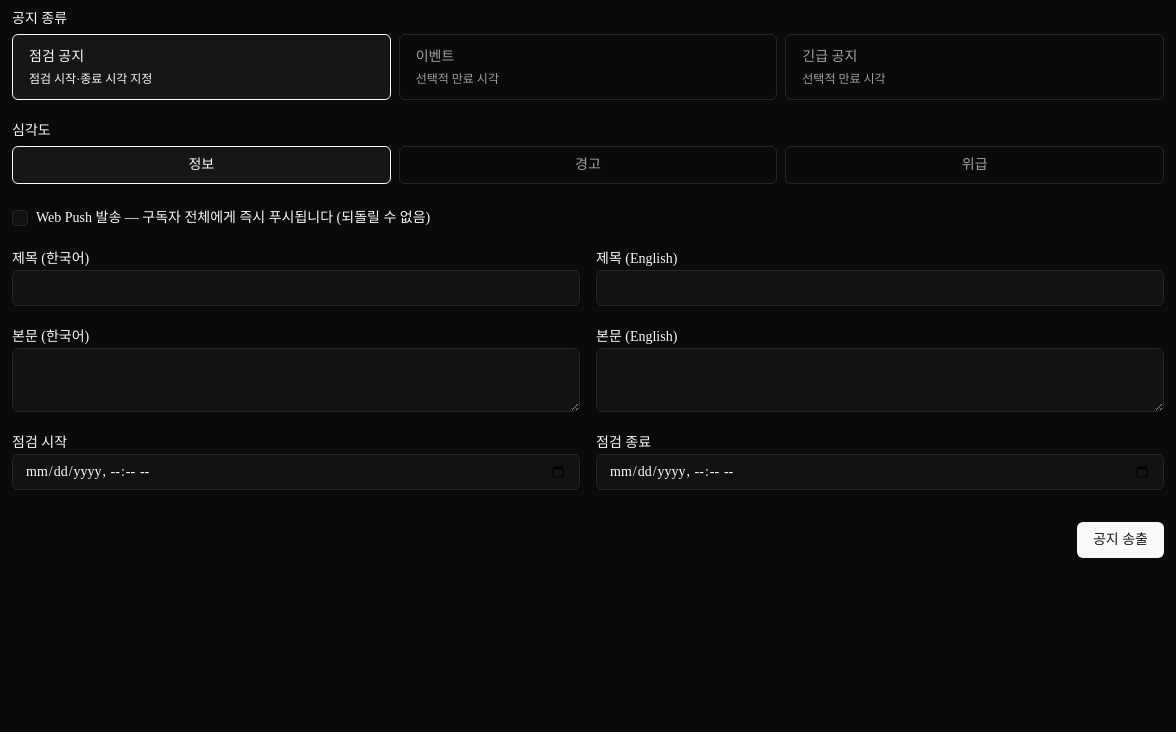
Scenario: AnnouncementLaunchForm › severity radio 토글
The image size is (1176, 732).
Click the radio button labelled "위급" at [975, 165], box left=785, top=146, right=1164, bottom=184
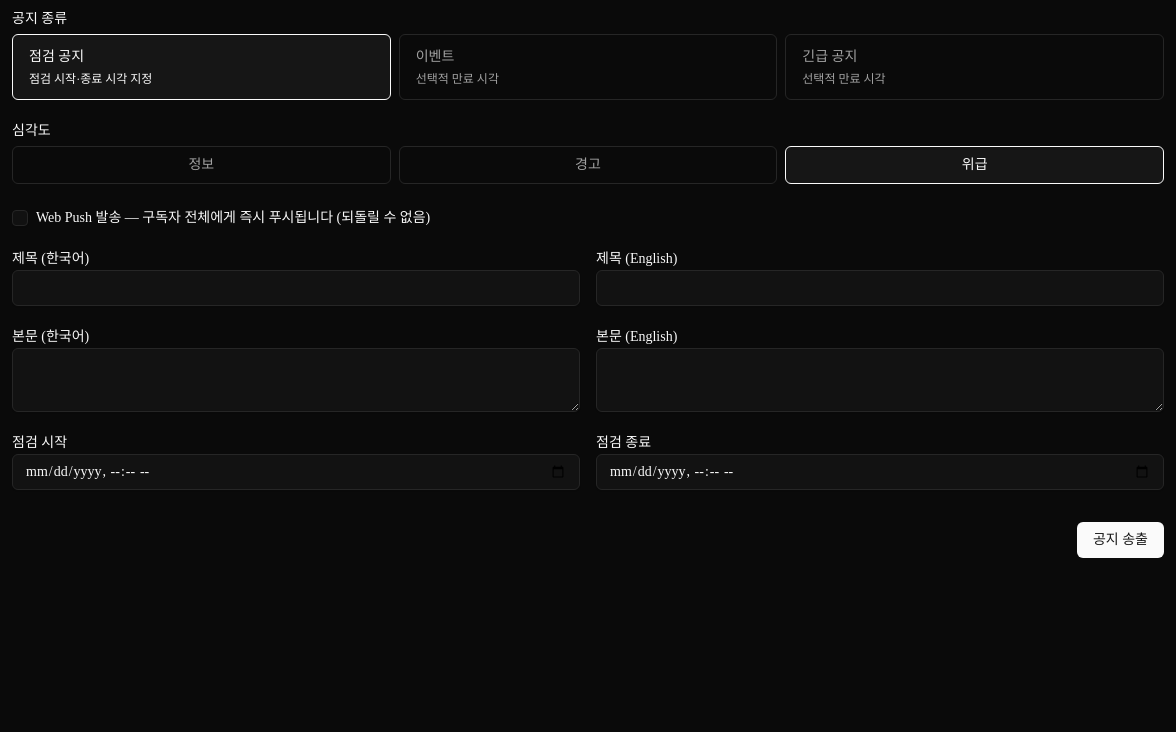
Now the radio button labelled "위급" is checked, box left=785, top=146, right=1164, bottom=184
